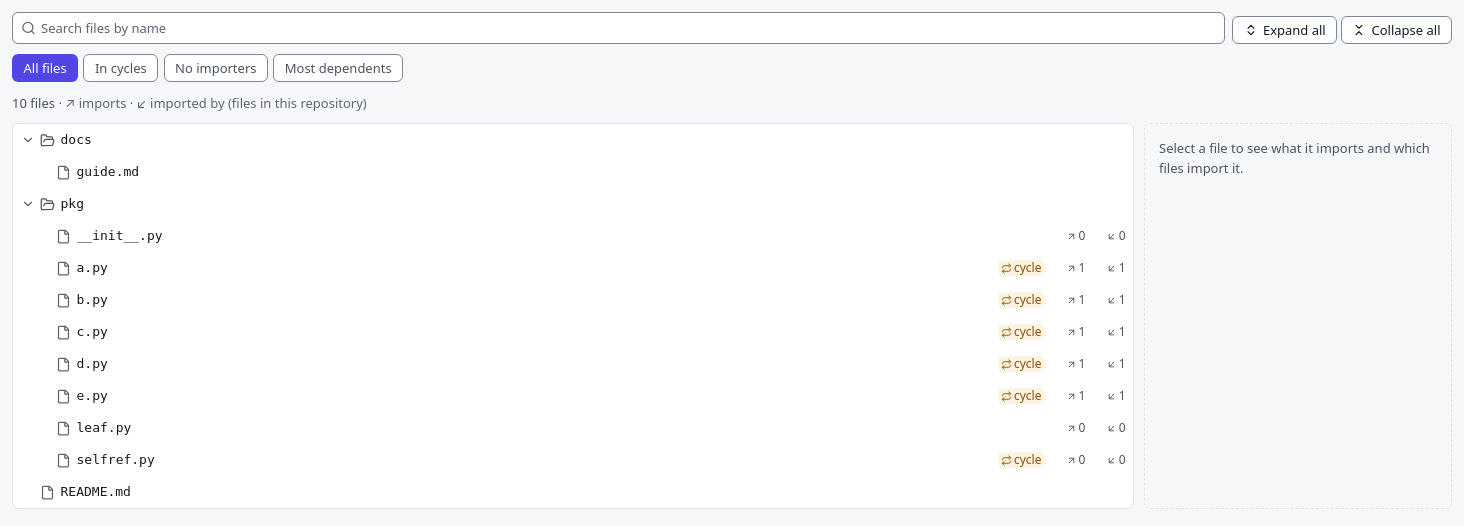
filters and actions (X2) › expands and collapses everything
Click the button "Collapse all" at (1396, 30), box left=1341, top=16, right=1452, bottom=44
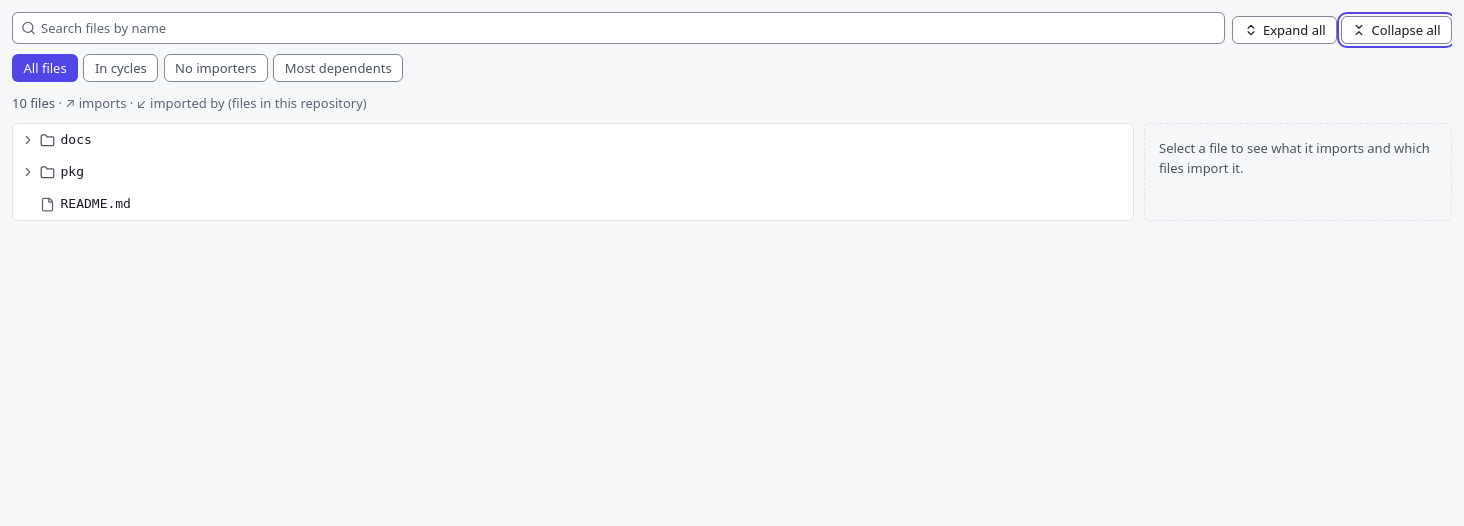
Check: the text "guide.md" is gone
Click the button "Expand all" at (1285, 30), box left=1232, top=16, right=1337, bottom=44
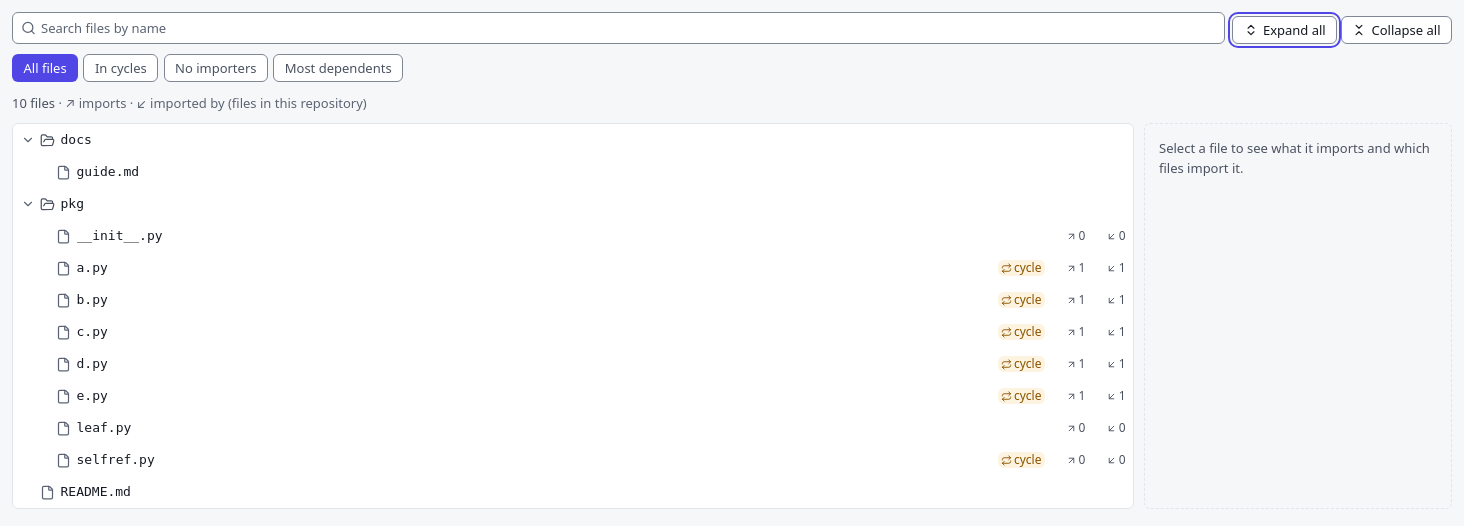
Check: the list item "guide.md" is shown, box left=56, top=164, right=139, bottom=180
Check: the list item with aria-label "a.py," is shown, box left=56, top=259, right=1126, bottom=276
